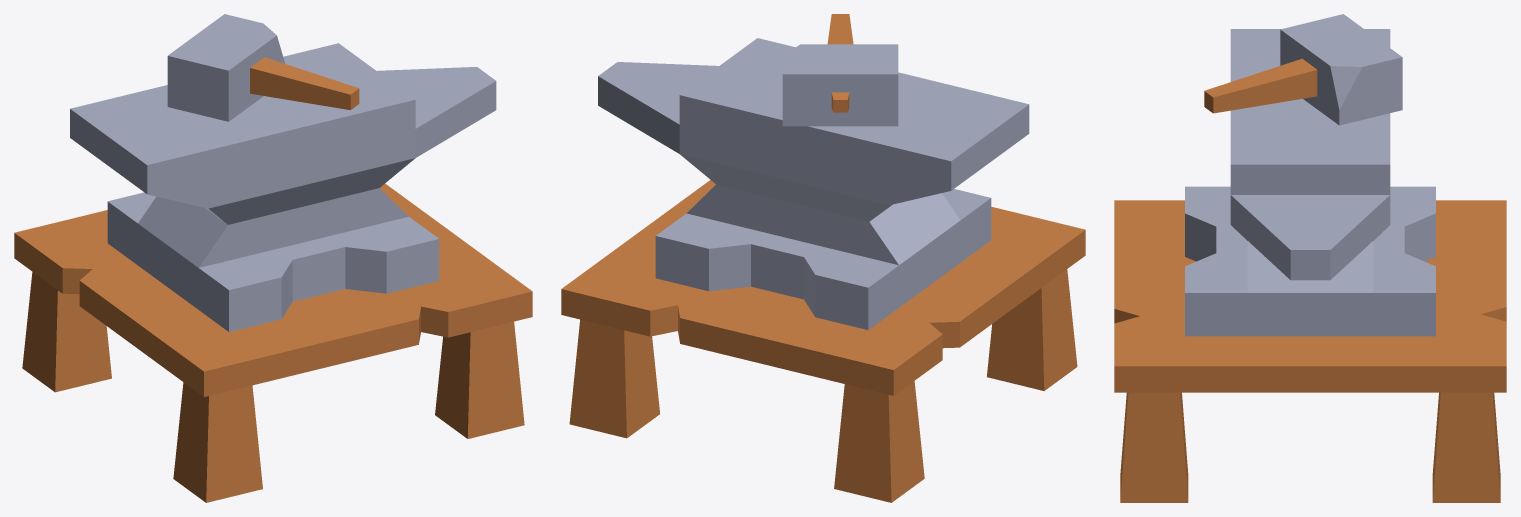
The model's file is Workbench_Anvil.glb.
3 views of the same model, side by side, from view 1: azimuth 30°, elevation 25°; view 2: azimuth 150°, elevation 25°; view 3: azimuth 270°, elevation 25° (orthographic). The views are drawn at different scales.
Visible parts, largest first — view 1: Workbench_Anvil_Merged; view 2: Workbench_Anvil_Merged; view 3: Workbench_Anvil_Merged.
Part boxes in pixels (bbox=[...]): Workbench_Anvil_Merged: bbox=[14, 14, 532, 502]; Workbench_Anvil_Merged: bbox=[561, 14, 1085, 502]; Workbench_Anvil_Merged: bbox=[1114, 14, 1506, 502].
Size of the model in its own units: 0.3092 by 0.2745 by 0.2688.
